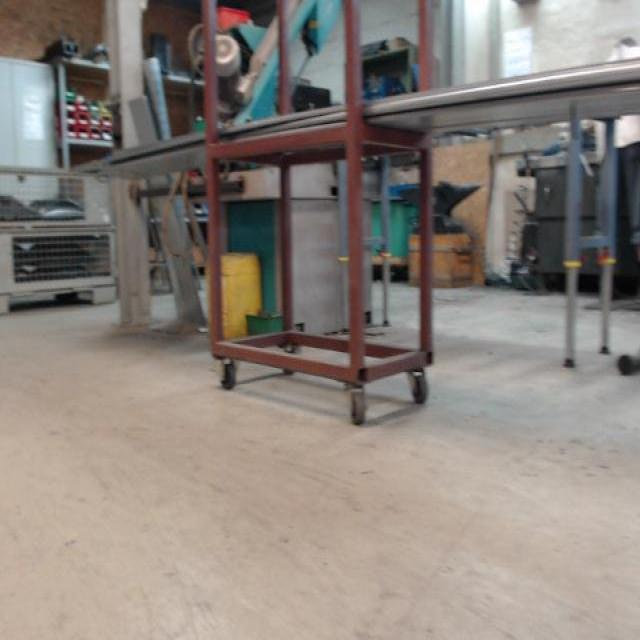stillage: (4, 169, 114, 308)
